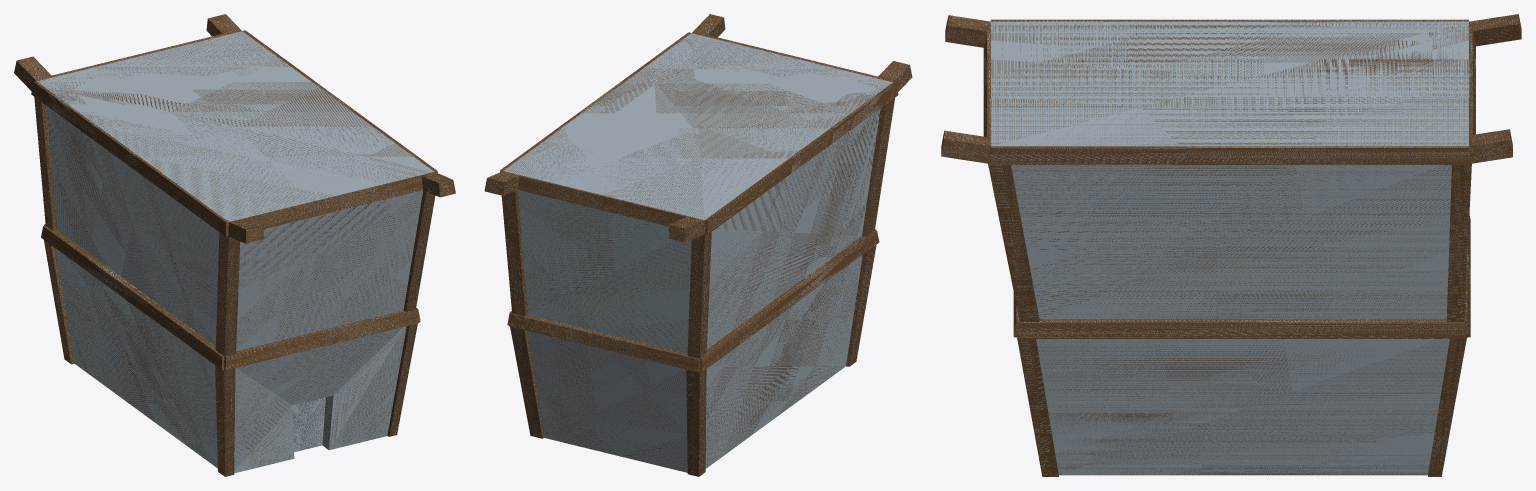
The model's file is Building_Viking_Tower_Base_01.fbx.
The picture shows the model from 3 angles, left to right: view 1: azimuth 30°, elevation 25°; view 2: azimuth 150°, elevation 25°; view 3: azimuth 270°, elevation 25°; orthographic projection. The views are drawn at different scales.
Parts seen in each view (by area): view 1: Model; view 2: Model; view 3: Model.
Part boxes in pixels (x1,y1,x2,y2): Model: (14,14,455,476); Model: (484,14,912,476); Model: (941,14,1521,476).
Size of the model in its own units: 1175 by 1472 by 2218.
